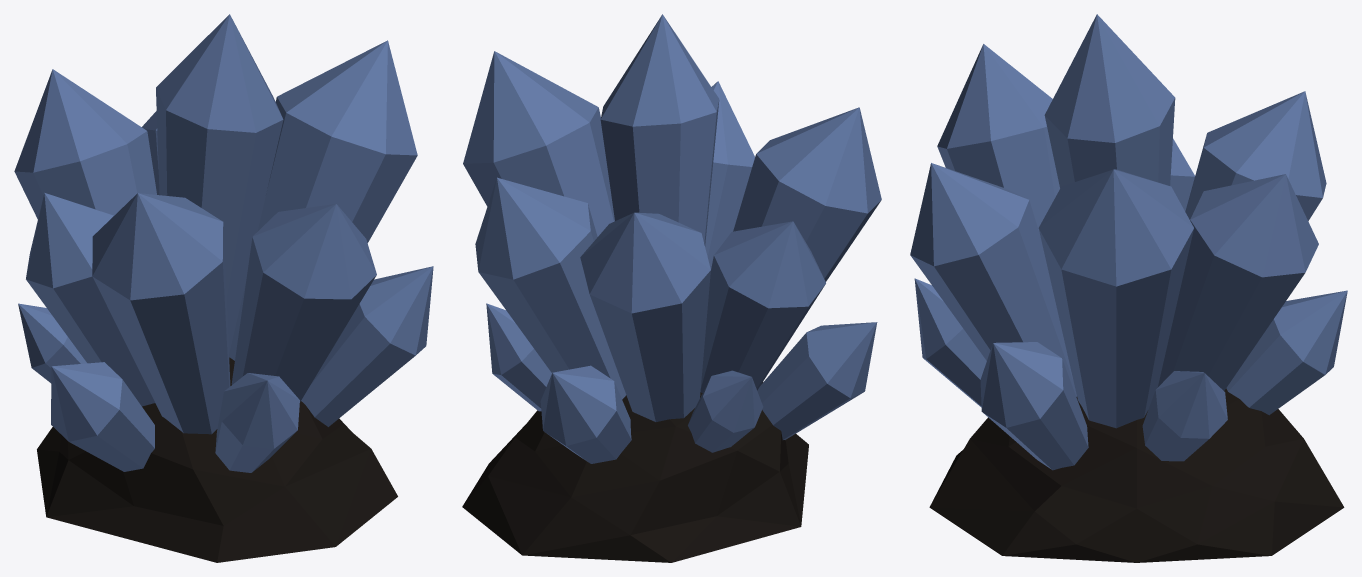
The model's file is Crystal.obj.
3 renders of one model, left to right at view 1: azimuth 30°, elevation 25°; view 2: azimuth 150°, elevation 25°; view 3: azimuth 270°, elevation 25°, orthographic. The views are drawn at different scales.
Parts seen in each view (by area): view 1: Crystal_Cylinder.007; view 2: Crystal_Cylinder.007; view 3: Crystal_Cylinder.007.
Boxes of the visible parts, bbox=[...] form: Crystal_Cylinder.007: bbox=[14, 14, 433, 562]; Crystal_Cylinder.007: bbox=[462, 14, 881, 562]; Crystal_Cylinder.007: bbox=[910, 14, 1347, 562].
Bounding box in the file's own units: 1.35 × 1.58 × 1.3.
